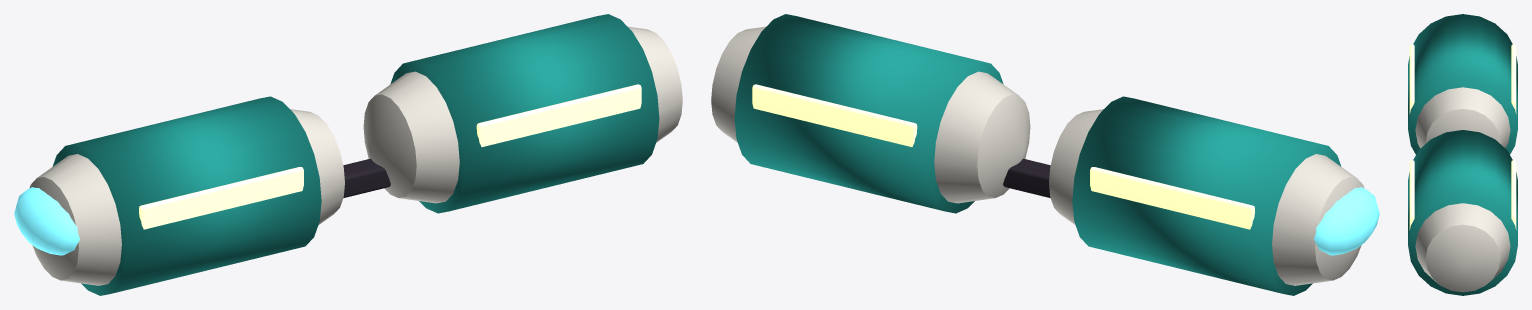
Rendered from dune_monorail_car.glb.
3 renders of one model, left to right at view 1: azimuth 30°, elevation 25°; view 2: azimuth 150°, elevation 25°; view 3: azimuth 270°, elevation 25°, orthographic. The views are drawn at different scales.
Parts seen in each view (by area): view 1: Car; view 2: Car; view 3: Car.
Part boxes in pixels (x1,y1,x2,y2): Car: (14,14,682,295); Car: (711,14,1379,295); Car: (1408,14,1517,295).
Bounding box in the file's own units: 12.73 × 2.64 × 2.64.
